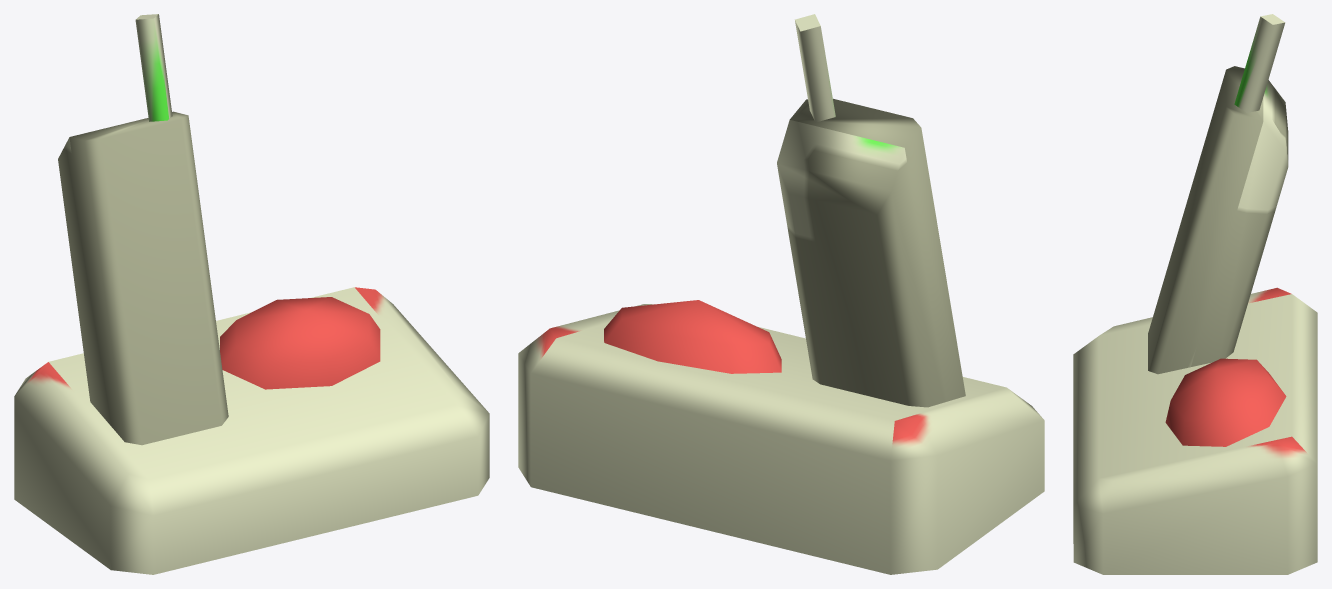
File: PhoneRadio.fbx
3 views of the same model, side by side, from view 1: azimuth 30°, elevation 25°; view 2: azimuth 150°, elevation 25°; view 3: azimuth 270°, elevation 25° (orthographic). The views are drawn at different scales.
Visible parts, largest first — view 1: Phone, LampGreen; view 2: Phone, LampGreen; view 3: Phone, LampGreen.
Boxes of the visible parts, x1,y1,x2,y2 form: Phone: (14, 14, 489, 574); LampGreen: (220, 297, 380, 389); Phone: (518, 14, 1044, 574); LampGreen: (604, 300, 781, 373); Phone: (1073, 14, 1317, 574); LampGreen: (1165, 358, 1286, 446).
Size of the model in its own units: 38.23 by 44.44 by 22.33.
